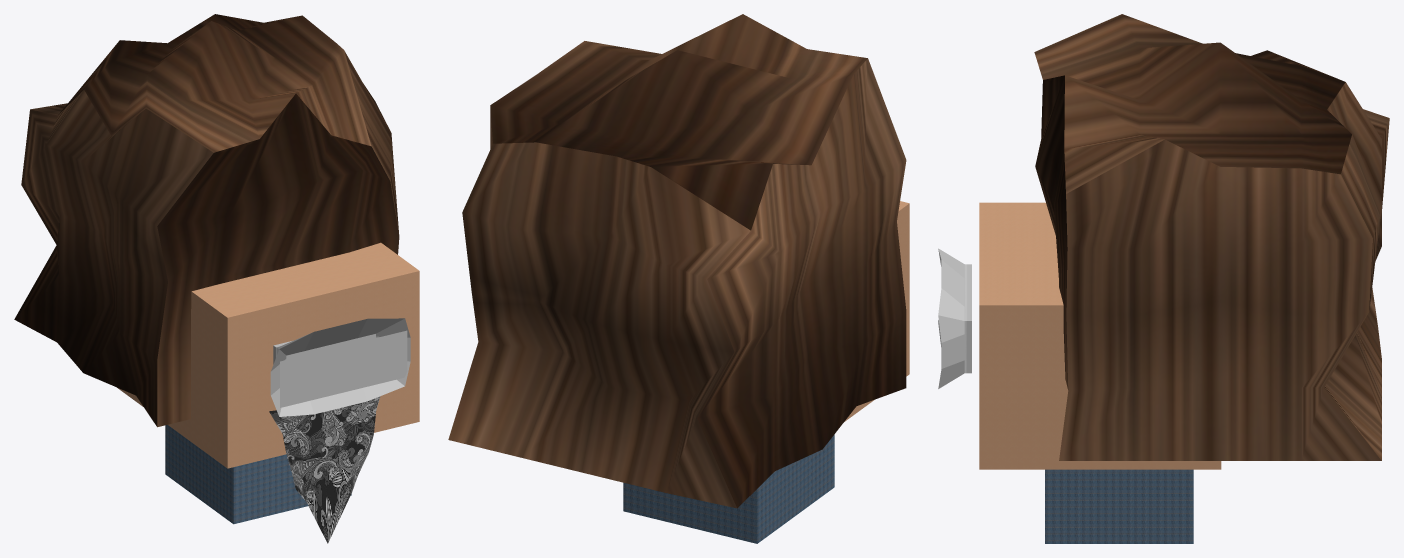
File: Player.FBX
3 renders of one model, left to right at view 1: azimuth 30°, elevation 25°; view 2: azimuth 150°, elevation 25°; view 3: azimuth 270°, elevation 25°, orthographic. The views are drawn at different scales.
Parts seen in each view (by area): view 1: Box001 (×2), Head, Plane001 (×2), Leg; view 2: Box001, Leg, Head; view 3: Box001 (×2), Head, Leg.
Boxes of the visible parts, left/top/right/bottom form: Box001 (×2): left=14, top=14, right=410, bottom=427; Head: left=117, top=242, right=419, bottom=468; Plane001 (×2): left=269, top=330, right=407, bottom=543; Leg: left=165, top=425, right=351, bottom=524; Box001: left=448, top=14, right=906, bottom=508; Leg: left=623, top=434, right=834, bottom=543; Head: left=844, top=201, right=909, bottom=421; Box001 (×2): left=938, top=14, right=1389, bottom=460; Head: left=979, top=202, right=1221, bottom=469; Leg: left=1045, top=469, right=1193, bottom=543.
Size of the model in its own units: 33.59 by 48.35 by 41.26.
